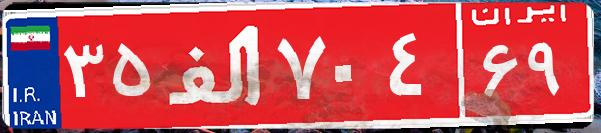0: (330, 28, 385, 110)
3: (57, 26, 110, 107)
4: (385, 28, 445, 110)
5: (110, 28, 158, 105)
6: (475, 38, 525, 113)
7: (273, 28, 330, 110)
9: (525, 38, 570, 115)
الف: (158, 15, 273, 115)
